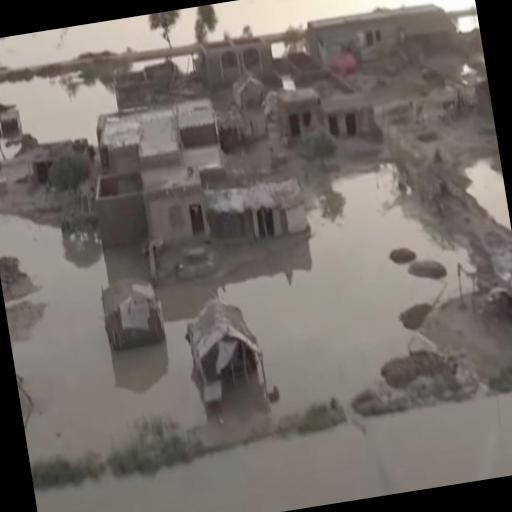flood: (161, 164, 459, 422), (34, 393, 512, 512), (0, 215, 204, 463), (208, 0, 475, 39), (0, 14, 166, 67), (0, 76, 116, 144), (465, 158, 511, 231), (171, 6, 195, 45), (130, 59, 165, 70), (171, 54, 191, 73), (458, 15, 479, 31)
house: (192, 158, 302, 259), (202, 39, 280, 151), (180, 294, 262, 398), (304, 5, 400, 68), (101, 276, 161, 354), (274, 86, 324, 139), (323, 91, 372, 137), (0, 103, 26, 159)
